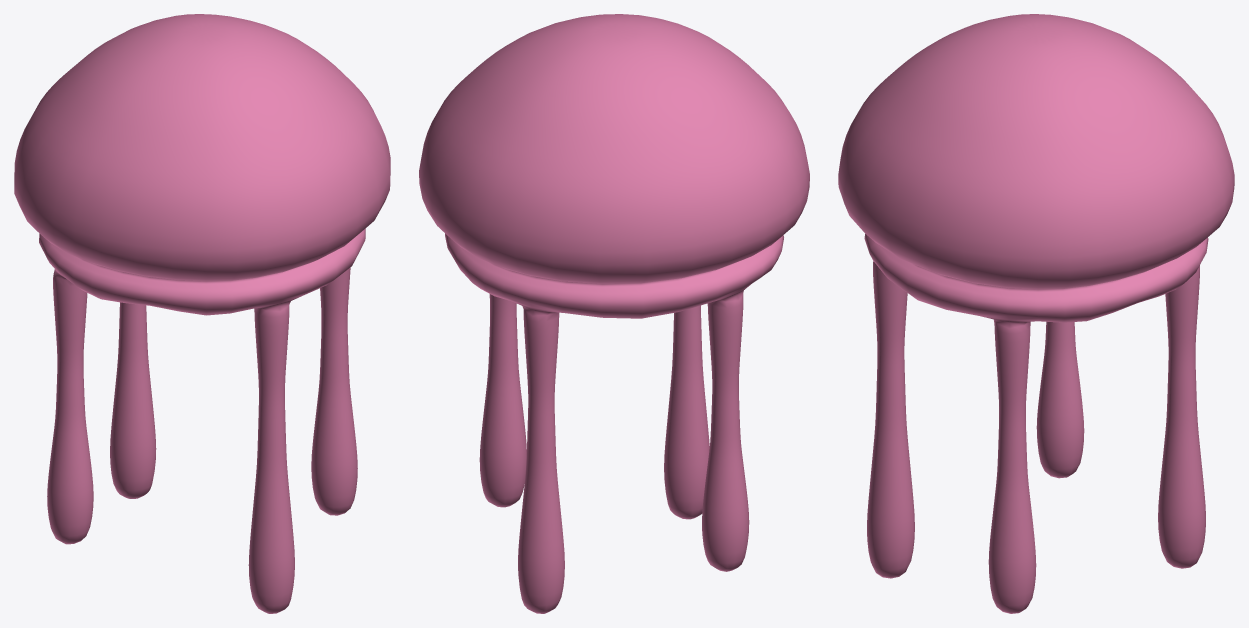
The model's file is Jellyfish.fbx.
3 renders of one model, left to right at view 1: azimuth 30°, elevation 25°; view 2: azimuth 150°, elevation 25°; view 3: azimuth 270°, elevation 25°, orthographic. The views are drawn at different scales.
Visible parts, largest first — view 1: Sphere; view 2: Sphere; view 3: Sphere.
Boxes of the visible parts, left/top/right/bottom form: Sphere: left=14, top=14, right=390, bottom=613; Sphere: left=419, top=14, right=809, bottom=613; Sphere: left=838, top=14, right=1234, bottom=613.
Size of the model in its own units: 225 by 339 by 223.
